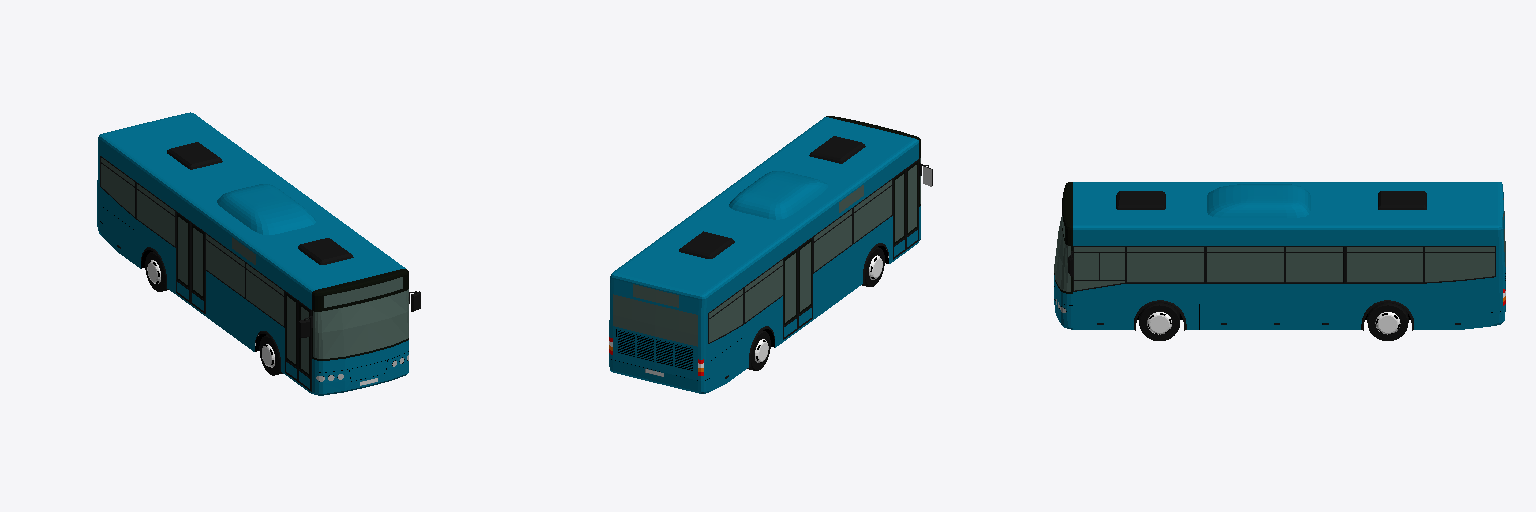
3 renders of one model, left to right at view 1: azimuth 30°, elevation 25°; view 2: azimuth 150°, elevation 25°; view 3: azimuth 270°, elevation 25°, orthographic.
Visible parts, largest first — view 1: body, glass, plastic, glassblk, tyre; view 2: body, glass, plastic, glassblk, black, tyre; view 3: body, glass, plastic, tyre, wheel, glassblk.
Boxes of the visible parts, <box> form: body: <box>97,112,408,395</box>; glass: <box>101,158,408,373</box>; plastic: <box>100,142,420,391</box>; glassblk: <box>177,214,408,376</box>; tyre: <box>145,252,282,375</box>; body: <box>609,117,920,393</box>; glass: <box>613,158,920,346</box>; plastic: <box>679,136,932,378</box>; glassblk: <box>784,116,920,324</box>; black: <box>611,246,888,380</box>; tyre: <box>747,247,884,370</box>; body: <box>1054,182,1505,329</box>; glass: <box>1054,198,1505,291</box>; plastic: <box>1068,191,1495,330</box>; tyre: <box>1139,303,1408,340</box>; wheel: <box>1147,312,1400,334</box>; glassblk: <box>1054,182,1072,293</box>.
Bounding box in the file's own units: 3.17 × 3.14 × 10.25.